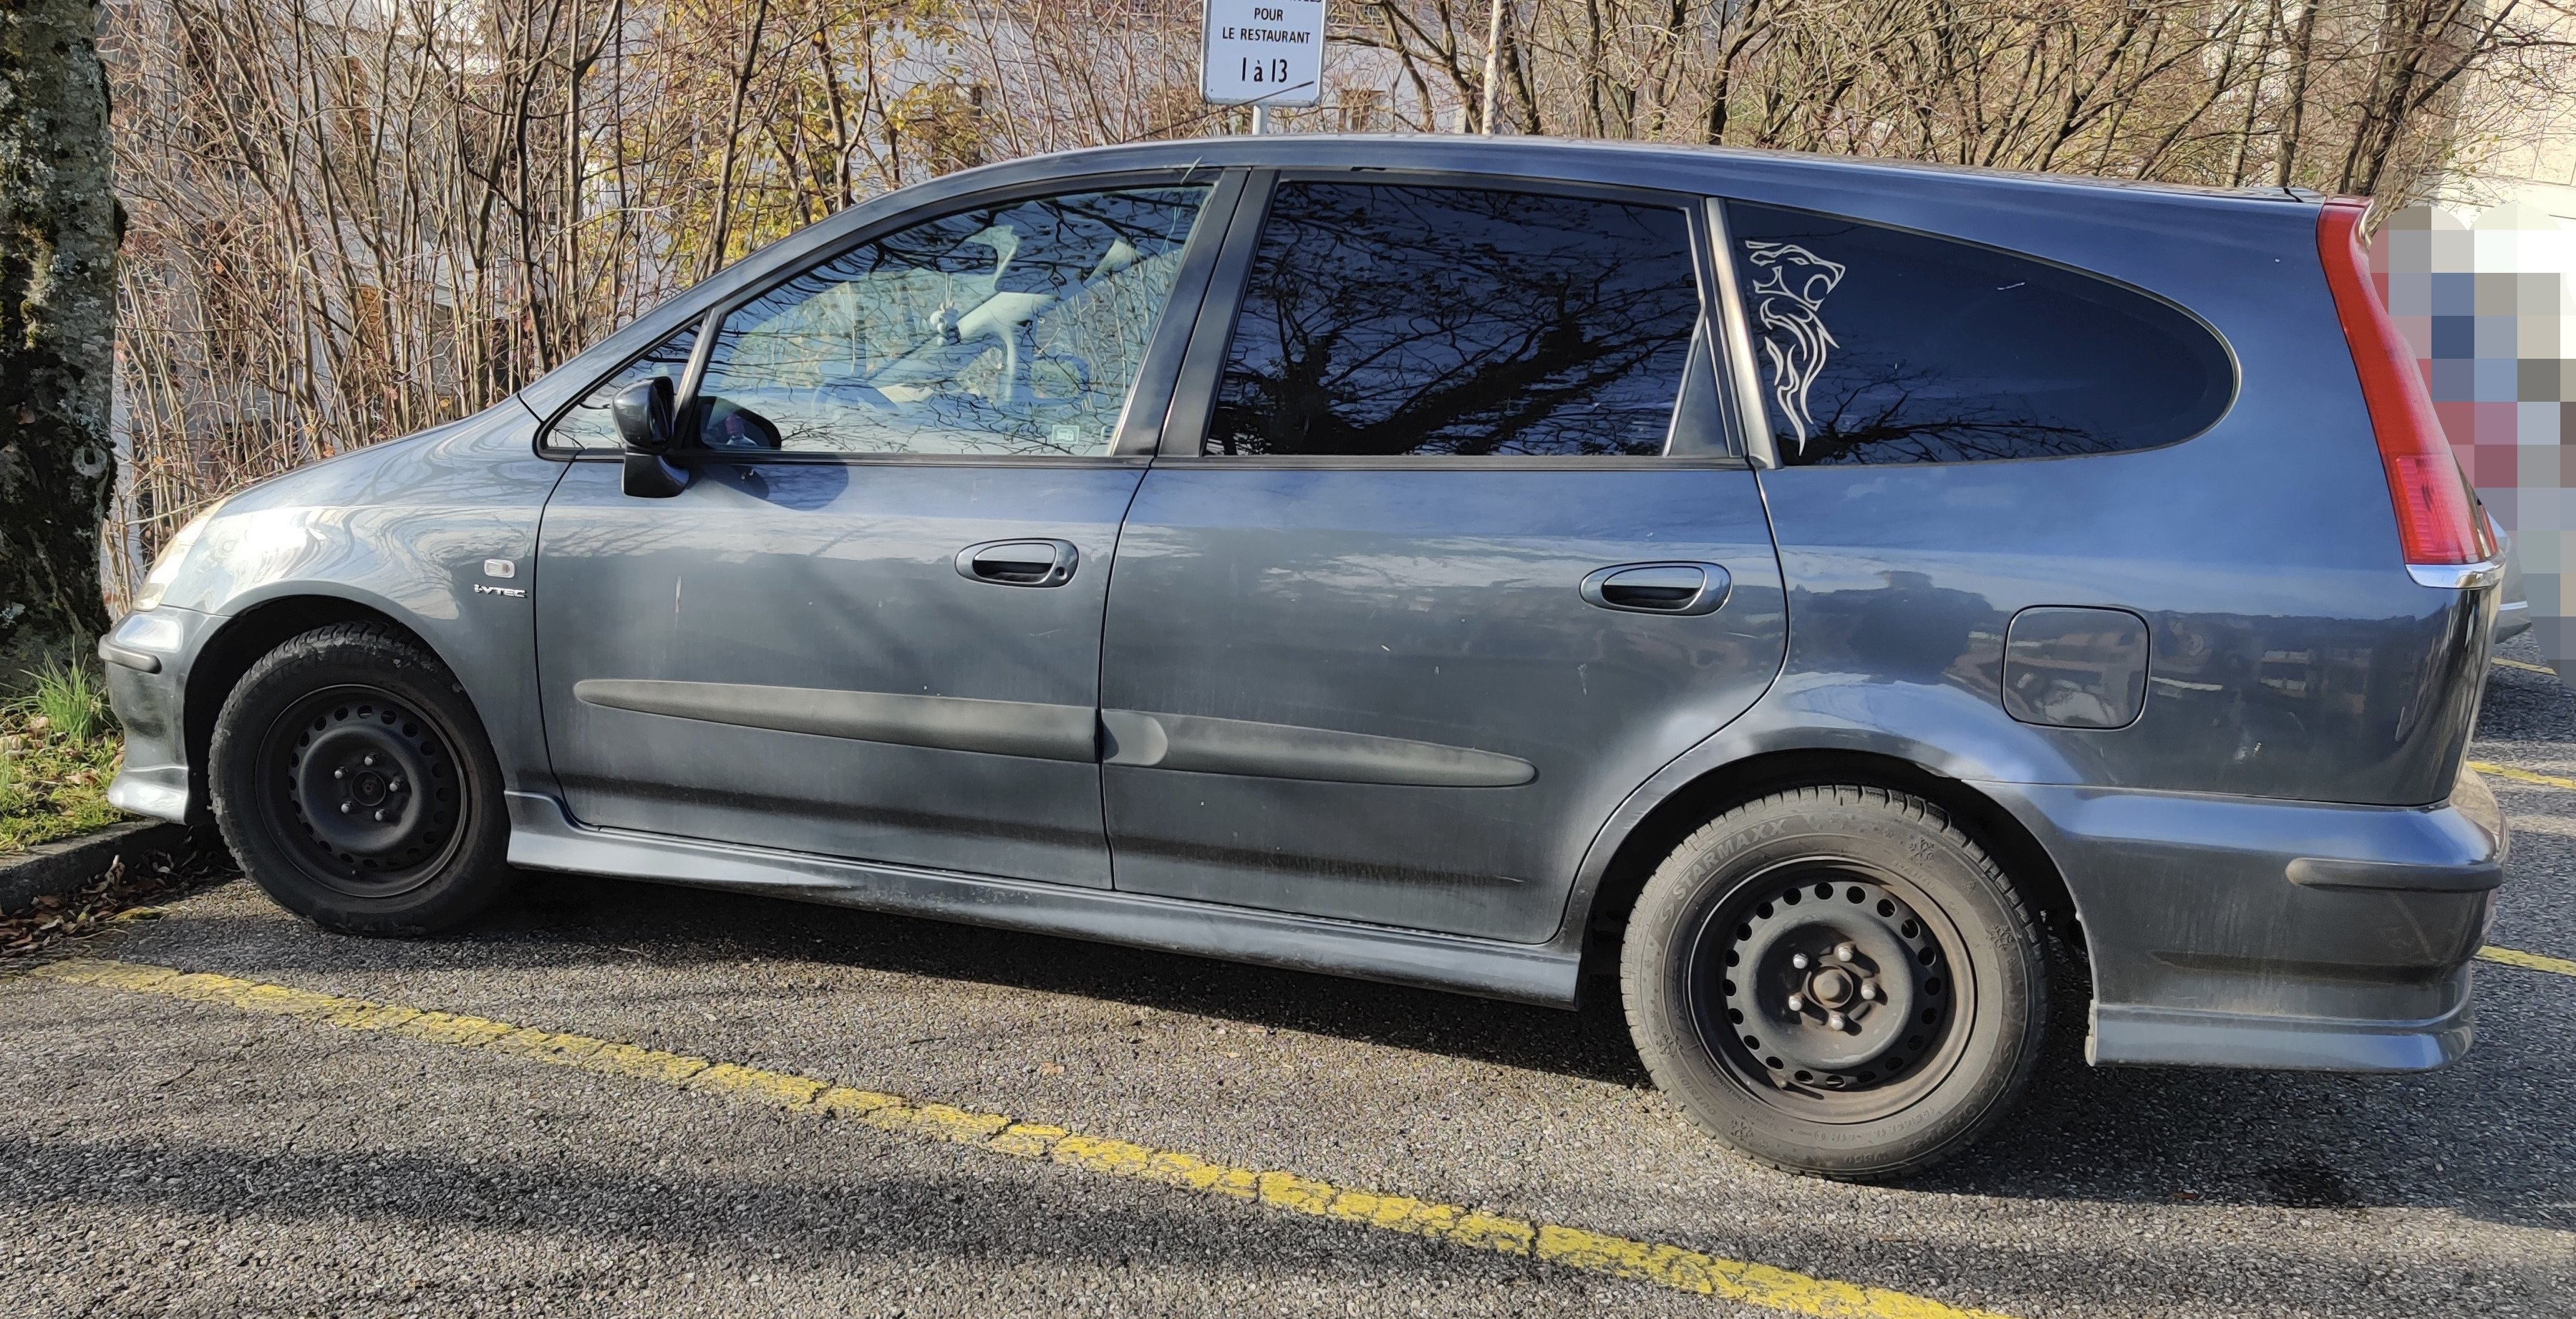mobil: (79, 114, 2521, 1198)
